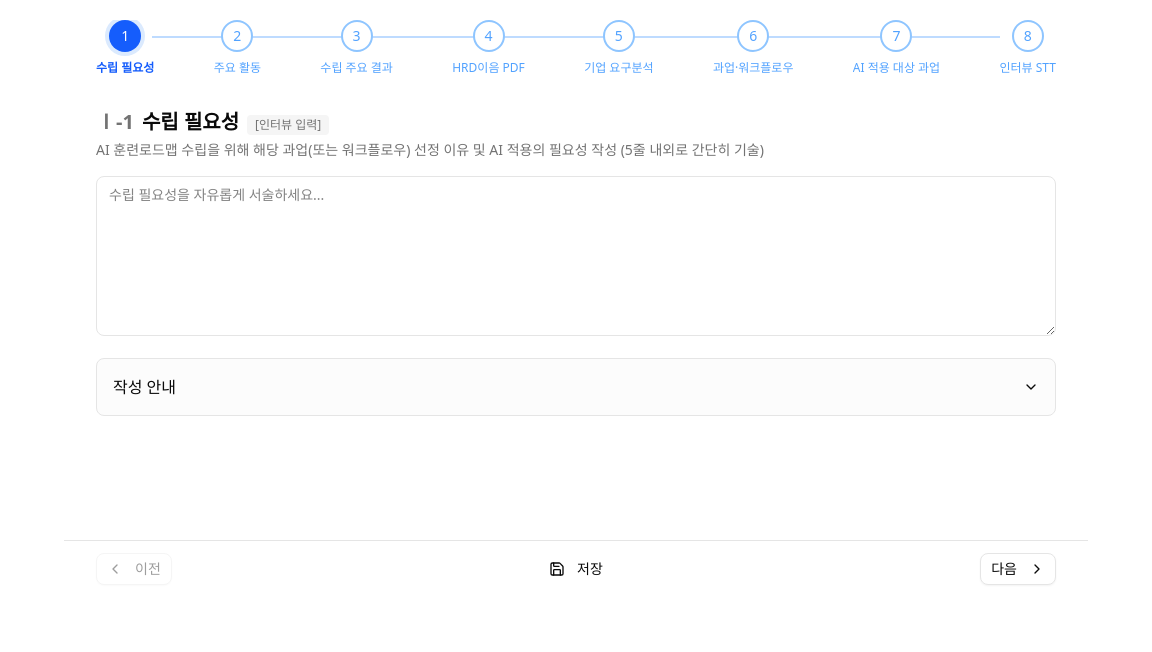
Test: RoadmapInterviewClient › Ⅱ-3 첨부 항목명이 "추가 내부 자료" 로 표시된다 (#10)
The width and height of the screenshot is (1152, 652).
Stepper 는 단축 라벨 "과업·워크플로우" 로 클릭 (페이지 헤더 풀텍스트는 별도 검증)
Click the text "과업·워크플로우".
click(753, 68)  # box [713,60,793,76]
(page scrolled)
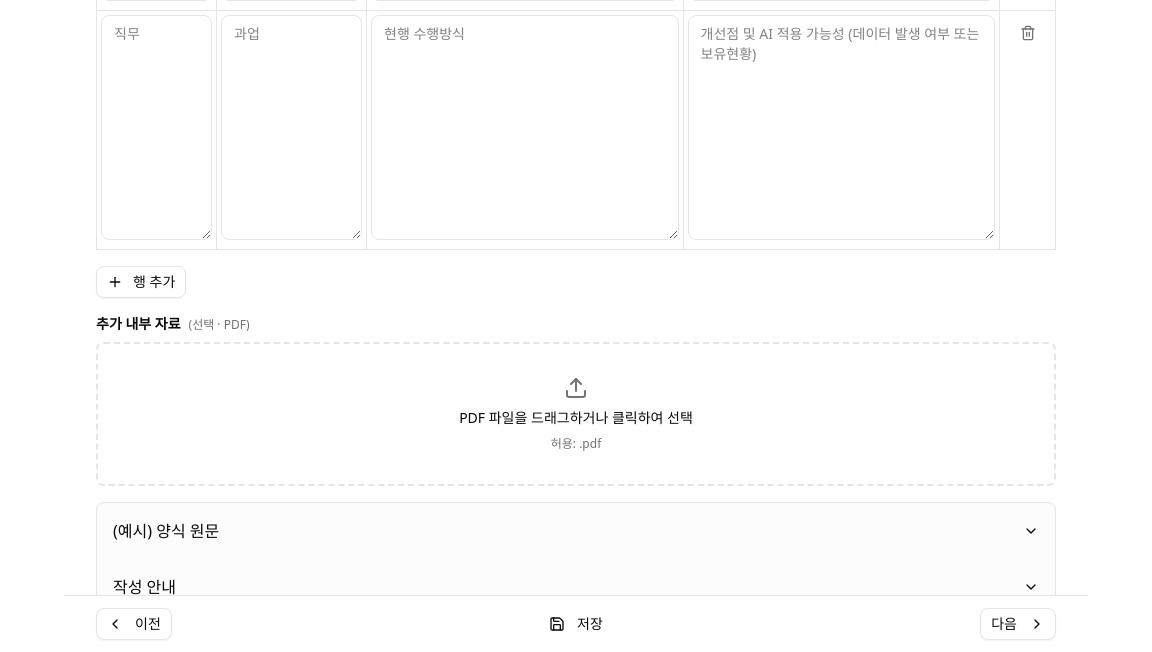
Now the heading "추가 내부 자료(선택 · PDF)" is shown, box [96,314,250,333]
